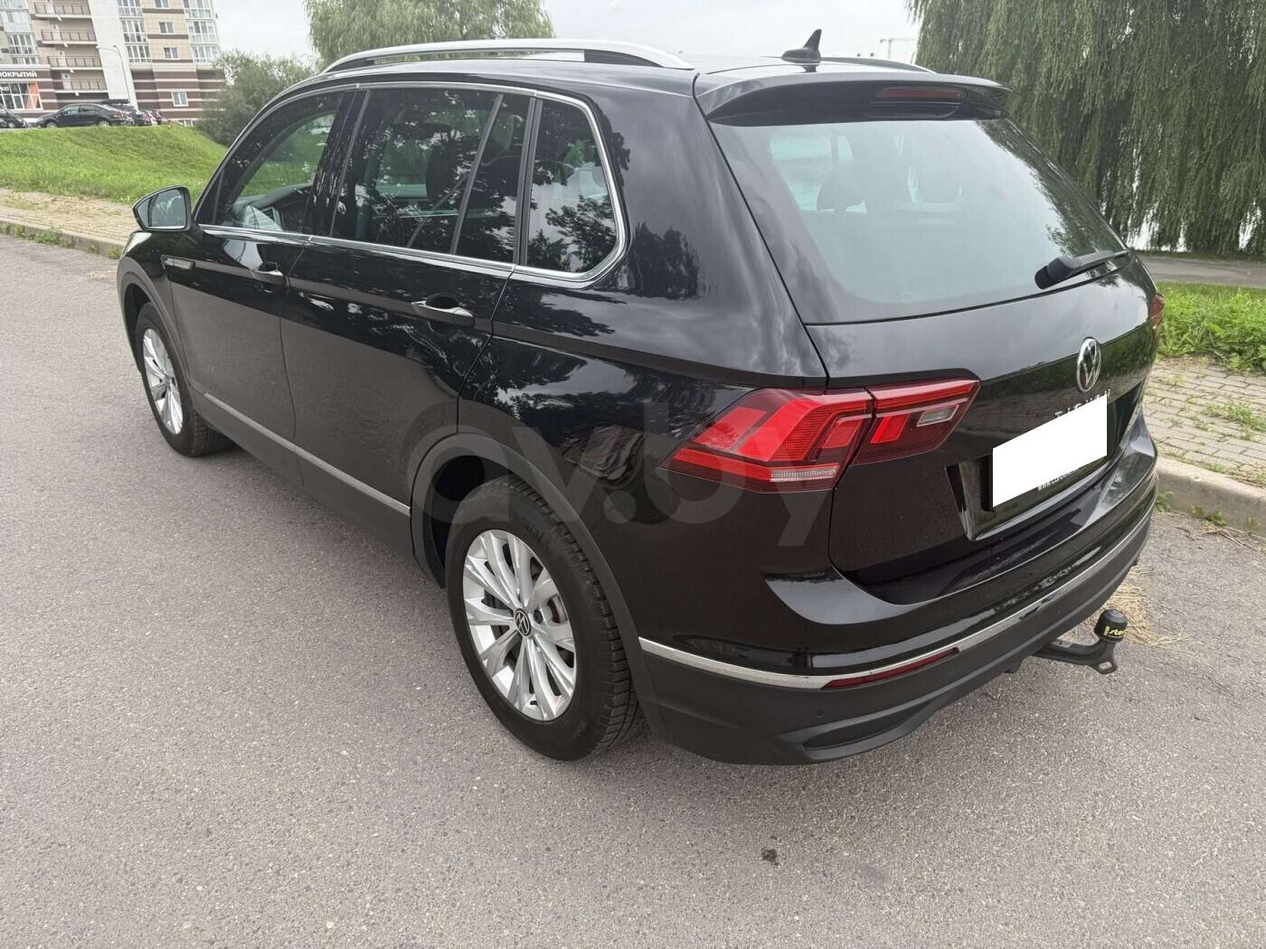Tiguan_2020-2024: (110, 44, 1164, 770)
